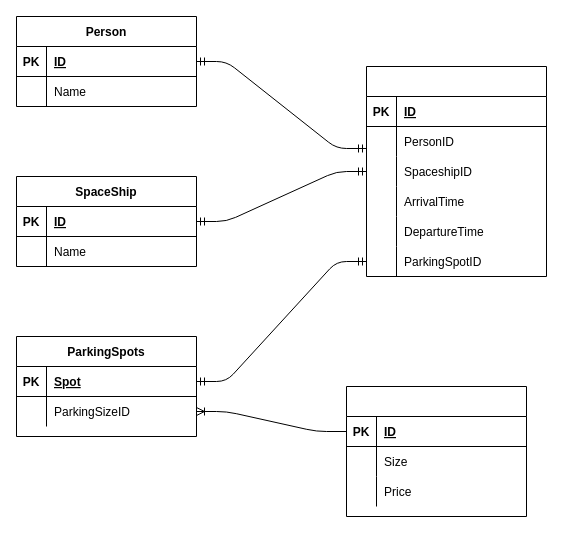
Image size: 563x533. Some labels were removed from this diagram. Here are the shapes that lost their labels. From the top down, the box of each, then its label:
(366, 66, 546, 276): Occupancy
(346, 386, 526, 516): ParkingSize
